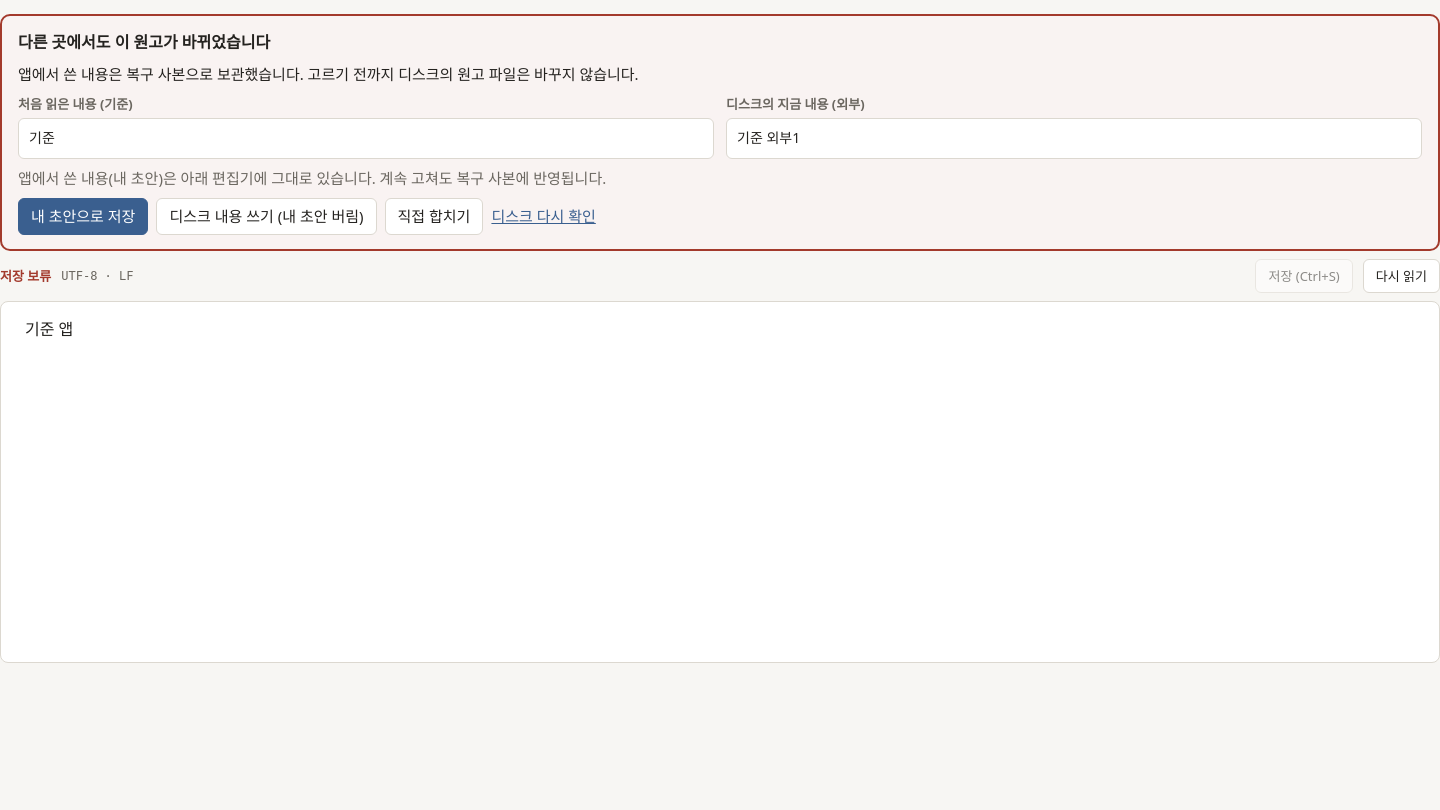
Test: 05 · external changes and conflicts › file changed again while resolving: refused save → new conflict with the newer disk
This screenshot has width=1440, height=810.
Expected: the dialog is shown, [0, 14, 1439, 251]
Click the button "내 초안으로 저장" at (83, 216), box [18, 198, 148, 235]
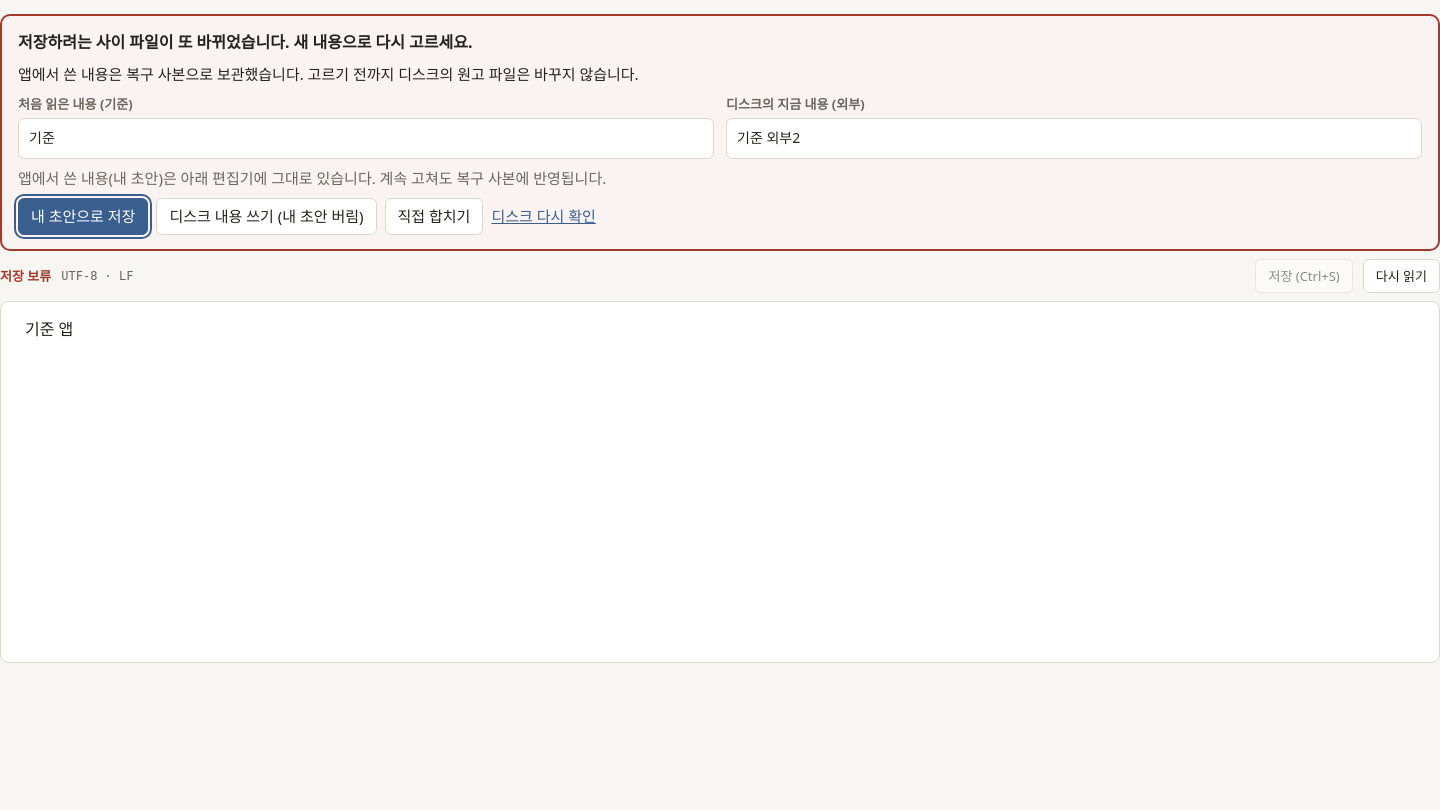
Expected: the text box labelled "기준 앱" is shown, [25, 318, 73, 340]
Expected: the heading "저장하려는 사이 파일이 또 바뀌었습니다. 새 내용으로 다시 고르세요." is shown, [18, 31, 473, 53]
Expected: the text with test id "conflict-disk" reads "기준 외부2", [737, 128, 800, 147]
